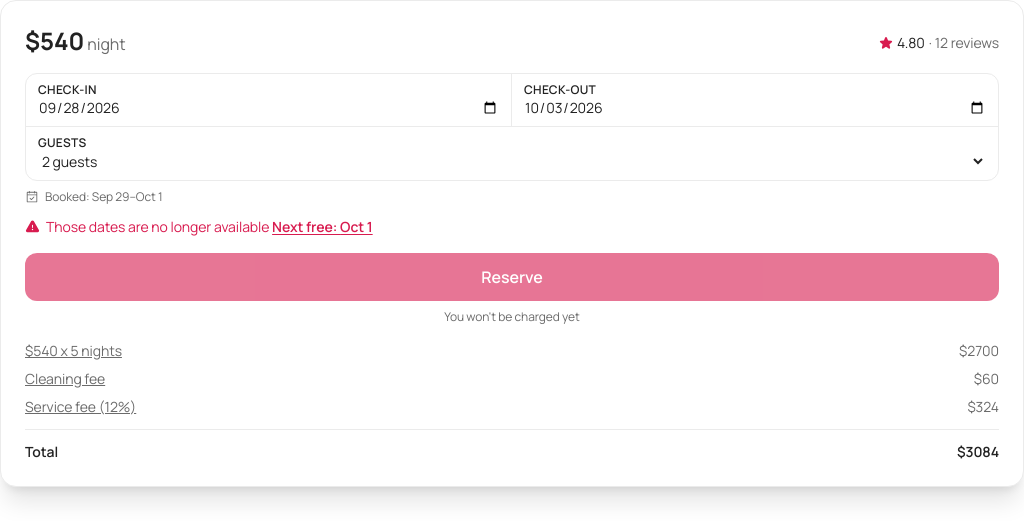
Scenario: <BookingWidget /> › blocks dates that are already booked and offers the next free date
Check: the message shows "no longer available", box x1=46 y1=217 x2=269 y2=236
Check: the button with test id "reserve" is disabled, box x1=25 y1=253 x2=999 y2=301
Click the button "Next free: Oct 1". click: click(322, 227)
box: x1=272 y1=217 x2=373 y2=237
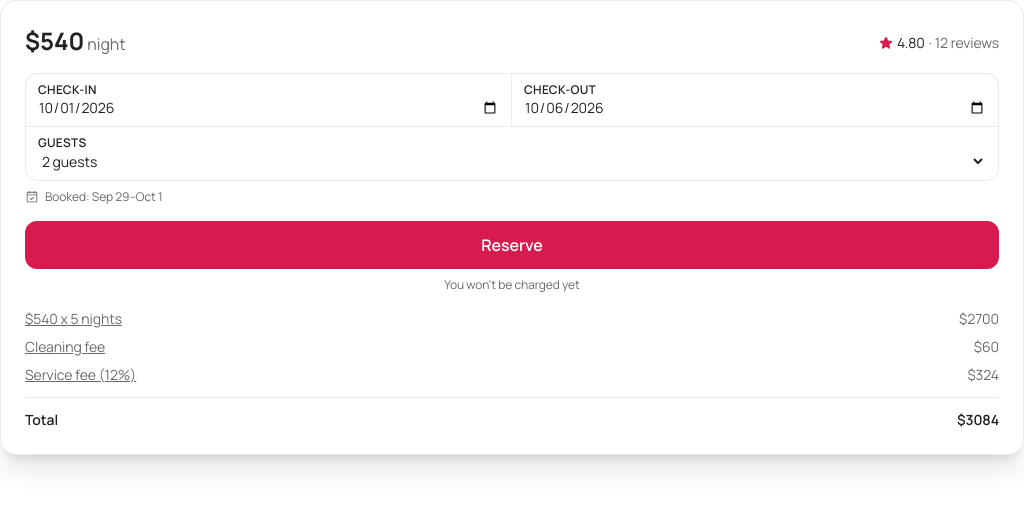
Check: the button with test id "reserve" is enabled, box x1=25 y1=221 x2=999 y2=269
Check: the date field with test id "check-in" holds "2026-10-01", box x1=38 y1=98 x2=499 y2=118
